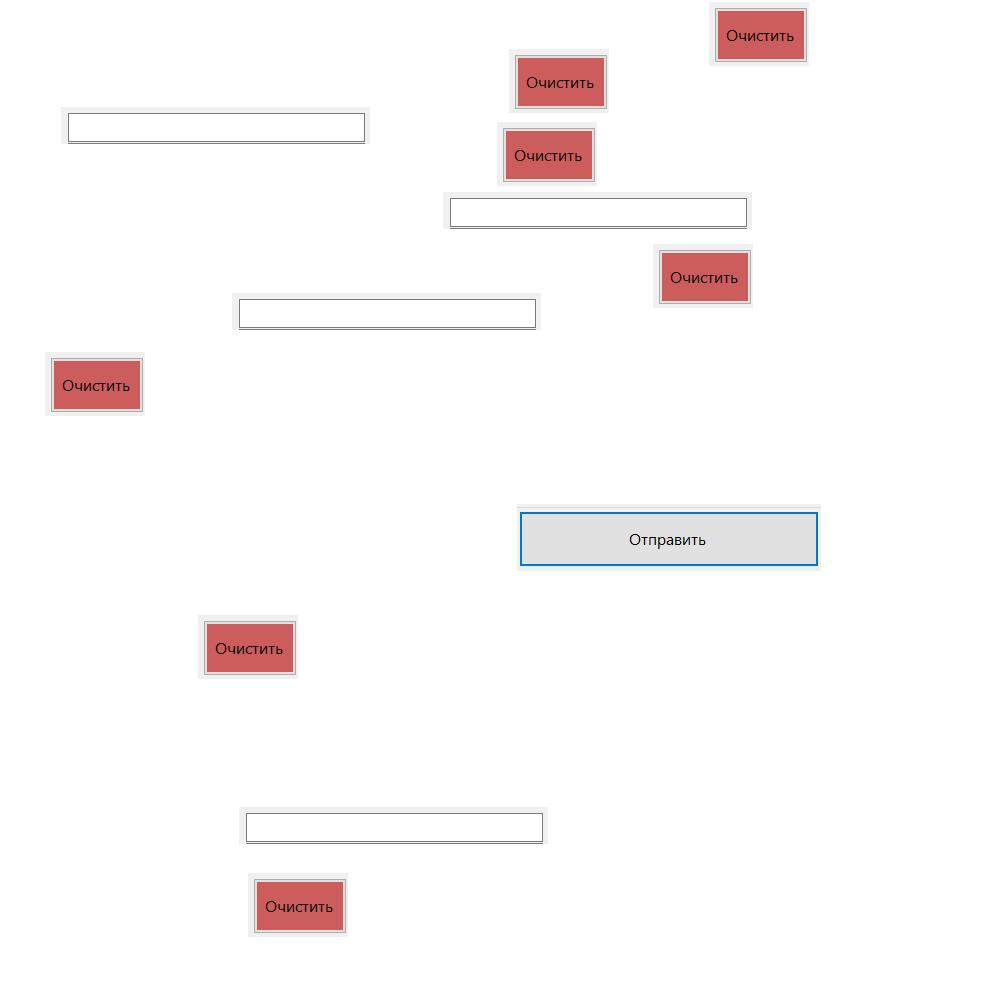Button: (517, 504, 821, 571), (509, 49, 609, 113), (709, 2, 809, 66), (497, 122, 597, 186), (198, 615, 298, 679), (45, 352, 145, 416), (248, 873, 348, 937), (653, 244, 753, 308)
EditText-: (232, 293, 541, 330), (239, 807, 548, 844), (443, 192, 752, 229), (61, 107, 370, 144)
